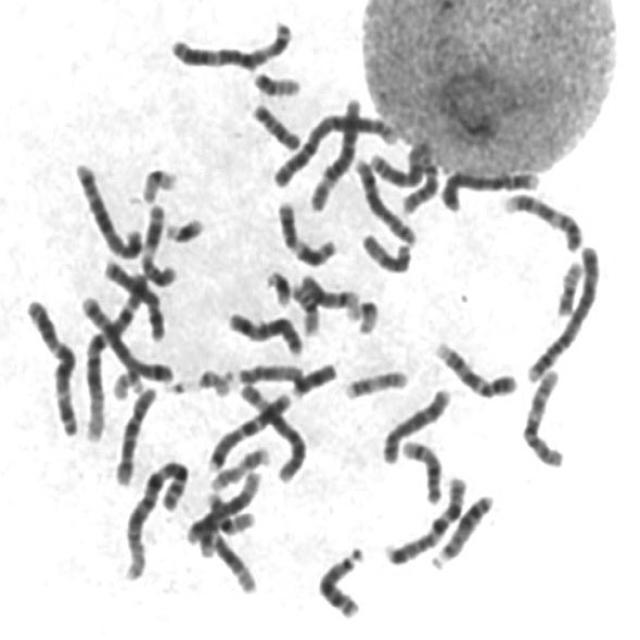A1: (79, 263, 152, 442), (118, 450, 193, 582)
A2: (267, 105, 401, 188), (356, 131, 444, 220)
A3: (21, 290, 84, 438), (165, 12, 297, 71)
B4: (522, 237, 604, 385), (436, 161, 545, 213)
B5: (76, 287, 177, 386), (68, 153, 148, 261)
C10: (518, 360, 570, 470), (110, 378, 160, 488)
C11: (272, 193, 342, 269), (137, 194, 181, 288)
C12: (183, 463, 266, 548), (193, 518, 262, 596)
C6: (234, 374, 309, 484), (305, 89, 365, 211)
C7: (380, 466, 472, 566), (203, 383, 295, 472)
C8: (348, 148, 420, 247), (376, 379, 456, 465)
C9: (429, 331, 523, 399), (499, 184, 588, 253)
D13: (425, 484, 498, 570), (313, 538, 370, 620)
D14: (397, 431, 447, 506), (295, 266, 362, 310)
D15: (357, 225, 416, 275), (224, 356, 308, 388)
E16: (201, 486, 259, 536), (286, 271, 324, 337)
E17: (206, 437, 276, 492), (339, 360, 414, 402)
E18: (246, 94, 306, 151), (288, 354, 342, 400)
F19: (137, 159, 182, 205), (342, 291, 383, 336)
F20: (552, 252, 587, 318), (247, 61, 306, 98)
G21: (260, 261, 296, 309), (161, 208, 208, 244)
G22: (192, 359, 236, 398), (106, 362, 149, 399)
X: (102, 253, 169, 348), (222, 303, 308, 357)
